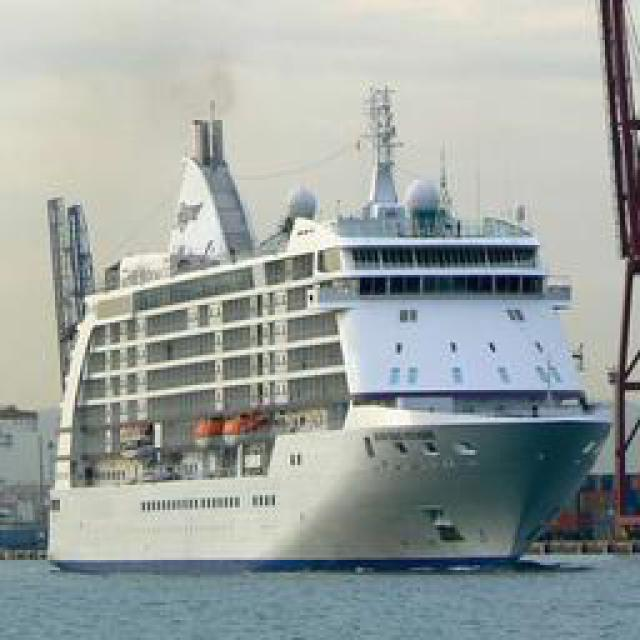Ship: (36, 102, 611, 572)
